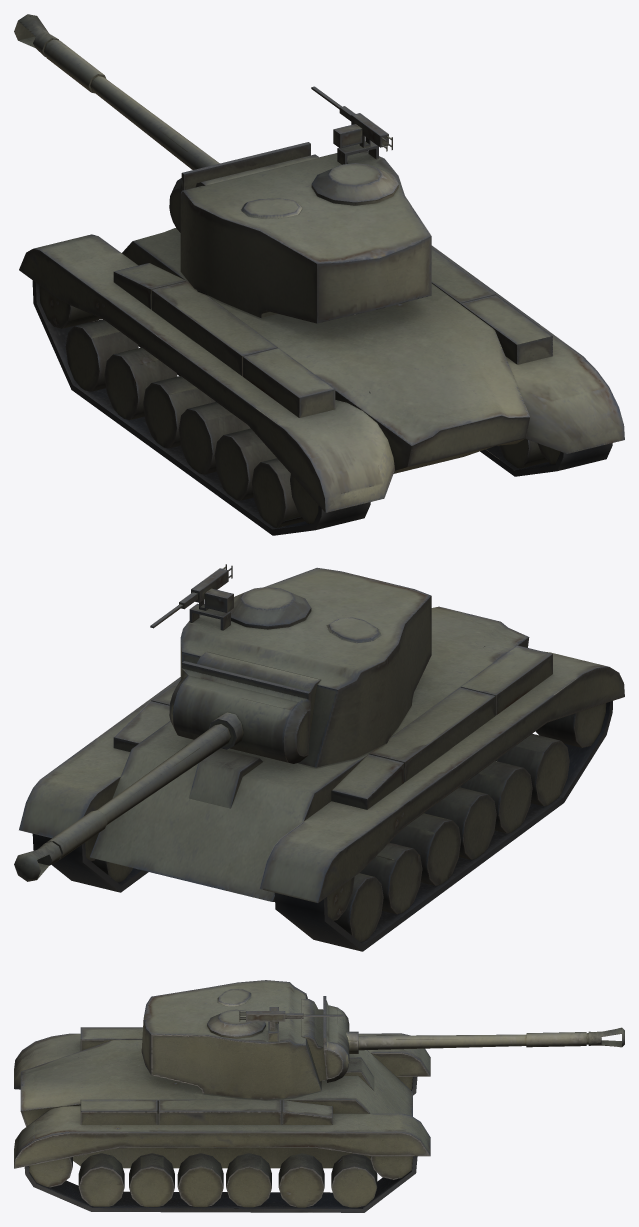
3 renders of one model, top to bottom at view 1: azimuth 30°, elevation 25°; view 2: azimuth 150°, elevation 25°; view 3: azimuth 270°, elevation 25°, orthographic. The views are drawn at different scales.
Parts seen in each view (by area): view 1: M46 Hull, M46 Turret; view 2: M46 Hull, M46 Turret; view 3: M46 Hull, M46 Turret.
Boxes of the visible parts, <box> form: M46 Hull: <box>19,228,624,535</box>; M46 Turret: <box>14,14,431,323</box>; M46 Hull: <box>19,606,624,951</box>; M46 Turret: <box>14,564,431,881</box>; M46 Hull: <box>14,1027,430,1212</box>; M46 Turret: <box>141,980,624,1099</box>.
Size of the model in its own units: 3.74 by 3.16 by 9.74.
